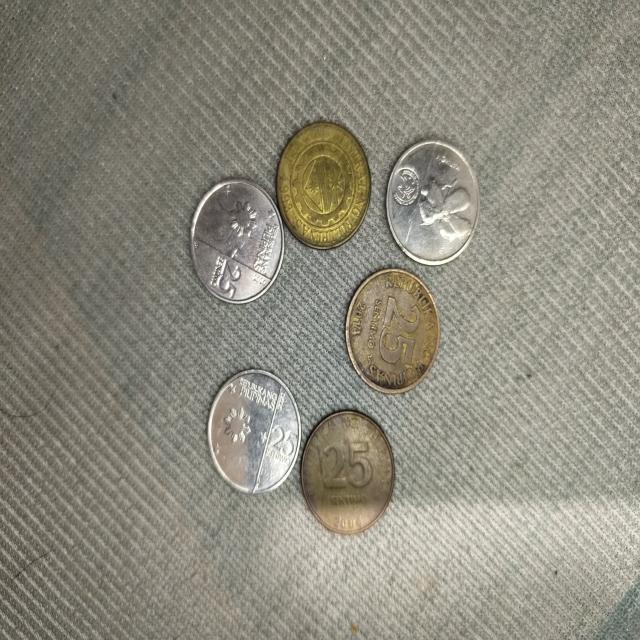25 cents: (384, 128, 487, 270), (207, 369, 303, 494), (190, 180, 286, 304)
25 cents-old: (276, 122, 372, 248), (346, 269, 440, 396), (300, 411, 396, 534)
